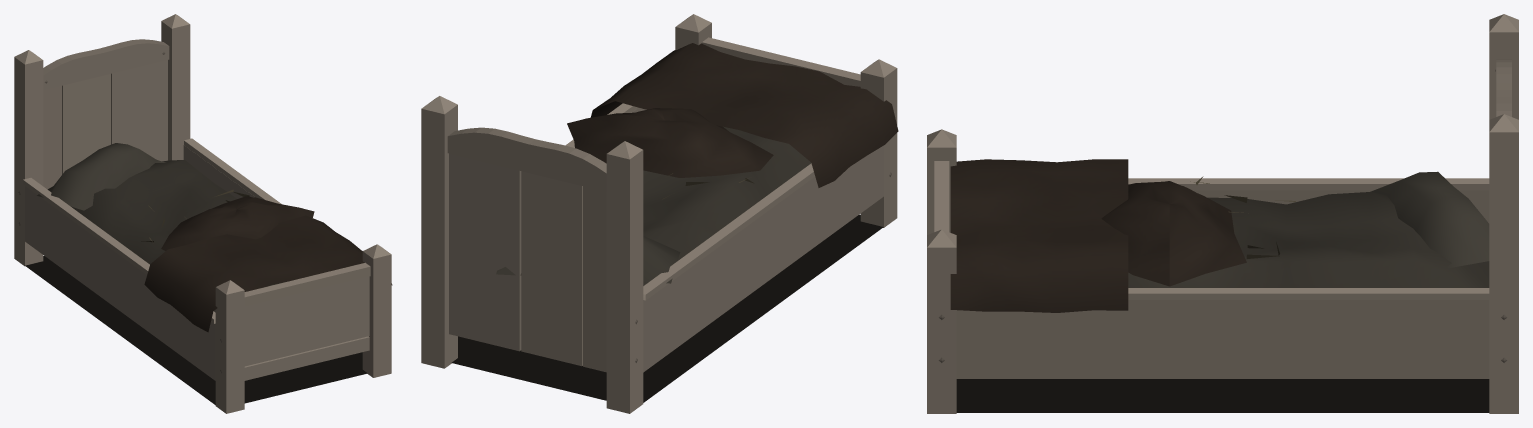
File: prop_inn_bed_slept.glb
3 views of the same model, side by side, from view 1: azimuth 30°, elevation 25°; view 2: azimuth 150°, elevation 25°; view 3: azimuth 270°, elevation 25° (orthographic). The views are drawn at different scales.
Visible parts, largest first — view 1: InnBedSlept, InnBedSleptSoft; view 2: InnBedSlept, InnBedSleptSoft; view 3: InnBedSlept, InnBedSleptSoft.
Part boxes in pixels (x1,y1,x2,y2): InnBedSlept: [14, 14, 391, 413]; InnBedSleptSoft: [37, 143, 392, 332]; InnBedSlept: [421, 14, 897, 413]; InnBedSleptSoft: [496, 43, 898, 285]; InnBedSlept: [927, 14, 1518, 413]; InnBedSleptSoft: [950, 159, 1489, 312].
Size of the model in its own units: 1.02 by 1.1 by 2.
